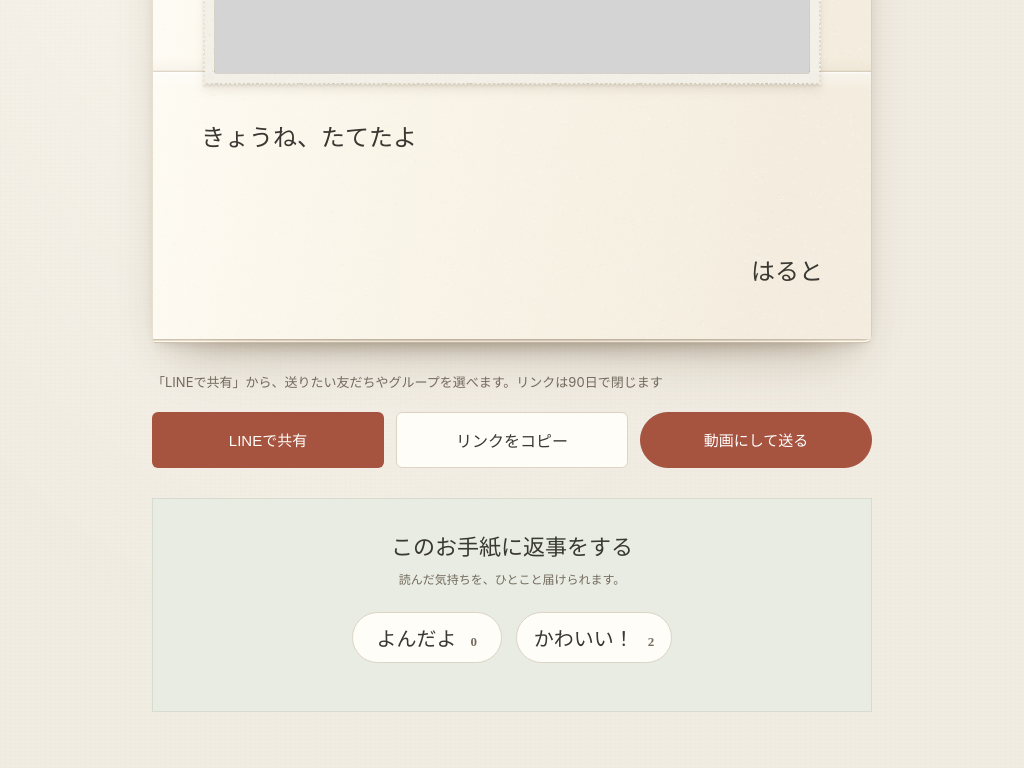
Test: LetterPage › keeps the video wording when a clip letter is saved locally
The image size is (1024, 768).
(page scrolled)
Click the button "動画にして送る": (756, 440) [640, 412, 872, 468]
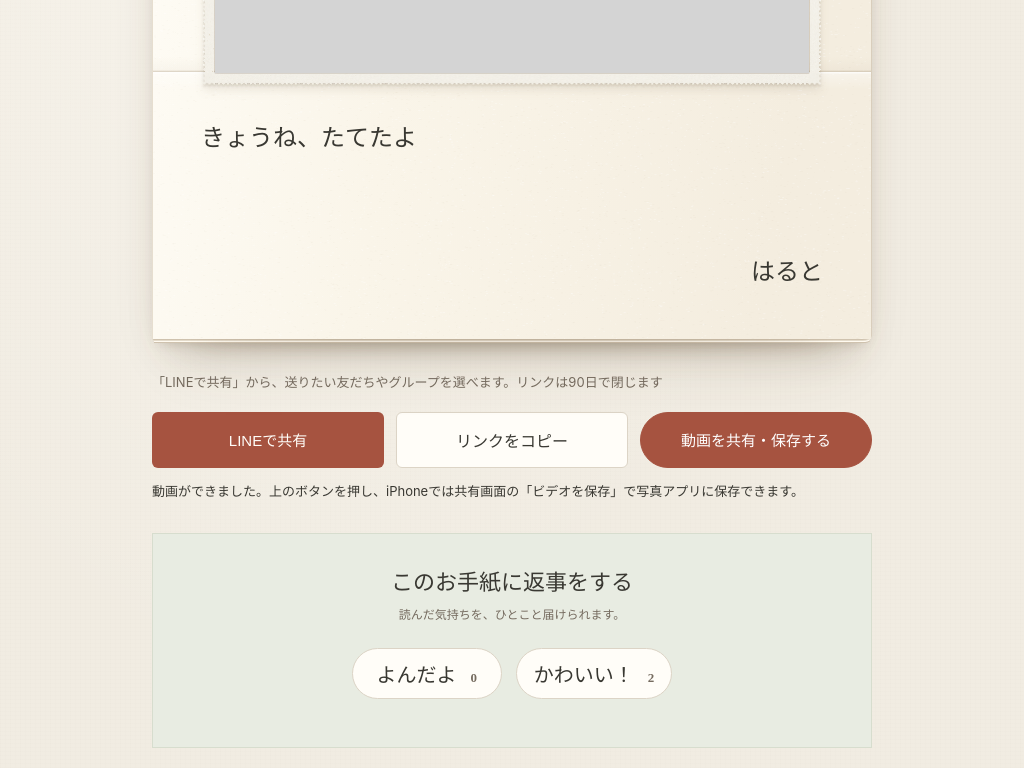
Click the button "動画を共有・保存する": (756, 440) [640, 412, 872, 468]
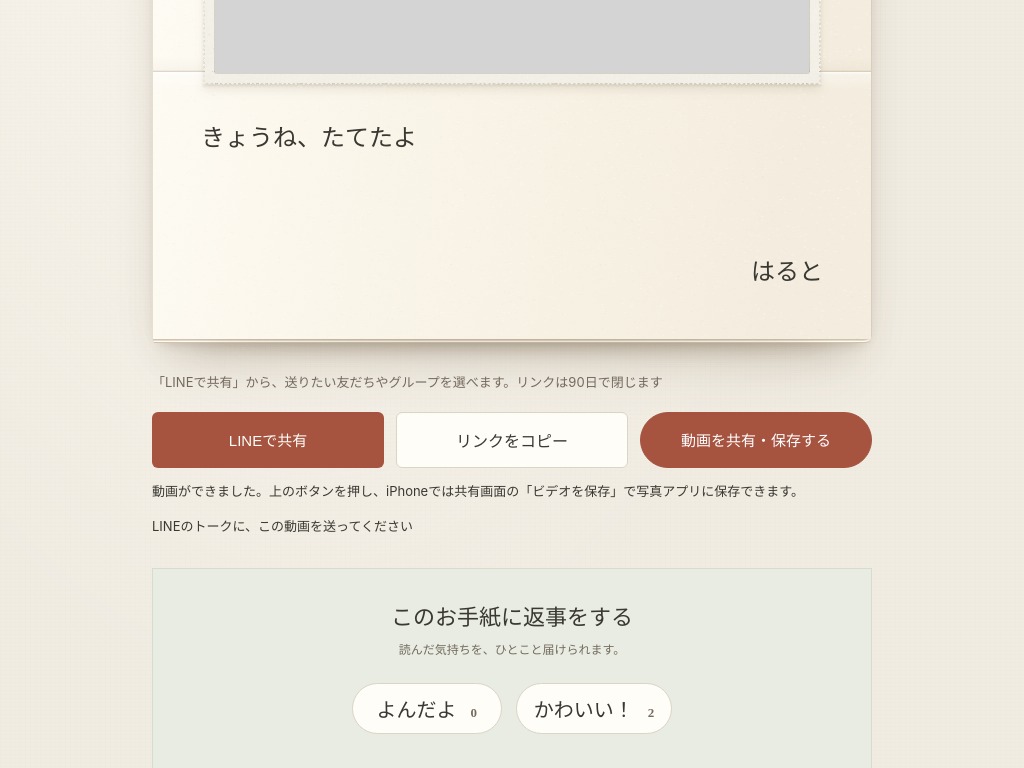
Expected: the text "LINEのトークに、この動画を送ってください" is shown, [152, 518, 413, 534]
